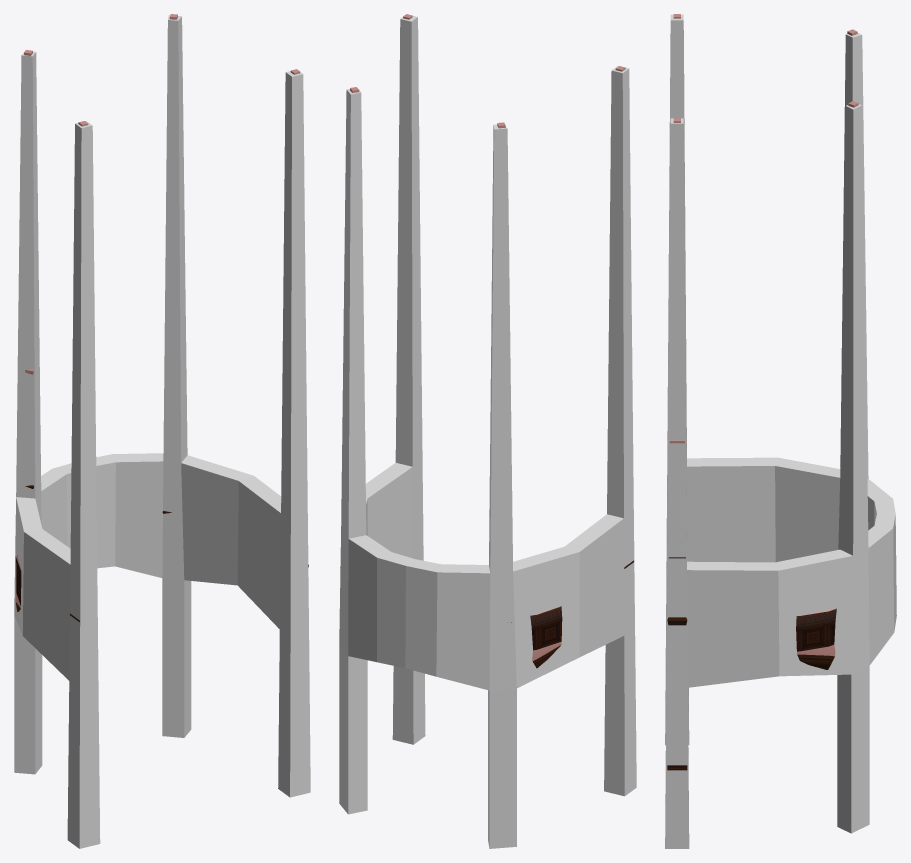
Rendered from Balconey_Horseshoe.fbx.
3 views of the same model, side by side, from view 1: azimuth 30°, elevation 25°; view 2: azimuth 150°, elevation 25°; view 3: azimuth 270°, elevation 25° (orthographic).
Parts seen in each view (by area): view 1: Balcony_Horseshoe_CollMesh, Balcony_Horseshoe_LOD0; view 2: Balcony_Horseshoe_CollMesh, Balcony_Horseshoe_LOD0; view 3: Balcony_Horseshoe_CollMesh, Balcony_Horseshoe_LOD0.
Part boxes in pixels (x1,y1,x2,y2): Balcony_Horseshoe_CollMesh: (14, 15, 310, 848); Balcony_Horseshoe_LOD0: (15, 14, 308, 622); Balcony_Horseshoe_CollMesh: (339, 16, 636, 848); Balcony_Horseshoe_LOD0: (340, 14, 634, 668); Balcony_Horseshoe_CollMesh: (665, 14, 896, 848); Balcony_Horseshoe_LOD0: (667, 14, 858, 770).
Size of what is drawn, in the model's own units: 498 by 1480 by 429.
